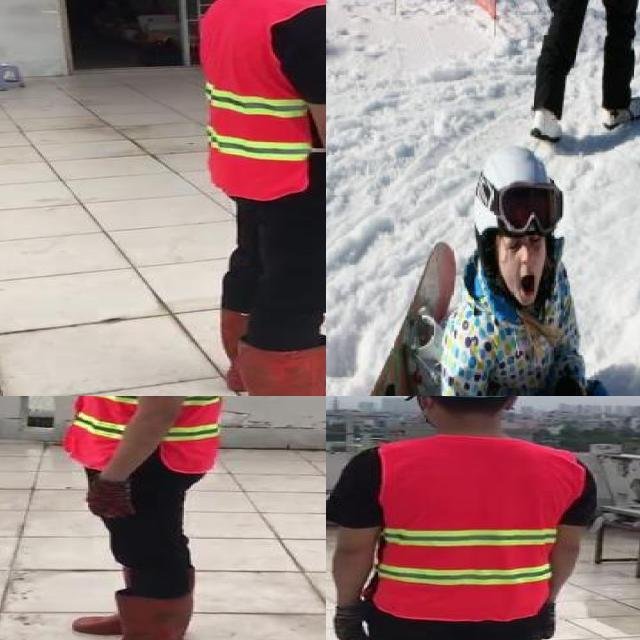boots: (214, 305, 326, 391), (65, 592, 191, 640), (236, 335, 326, 396)
face_nomask: (502, 234, 550, 296)
glasses: (488, 176, 574, 238)
hand_glove: (81, 480, 132, 522), (329, 602, 374, 640), (531, 606, 556, 640)
person: (326, 396, 599, 640), (389, 139, 620, 396), (188, 0, 326, 396), (32, 396, 242, 640)
shoes: (593, 85, 640, 131), (525, 101, 572, 145)
vest: (376, 436, 581, 620), (200, 0, 326, 198), (62, 396, 220, 472)
